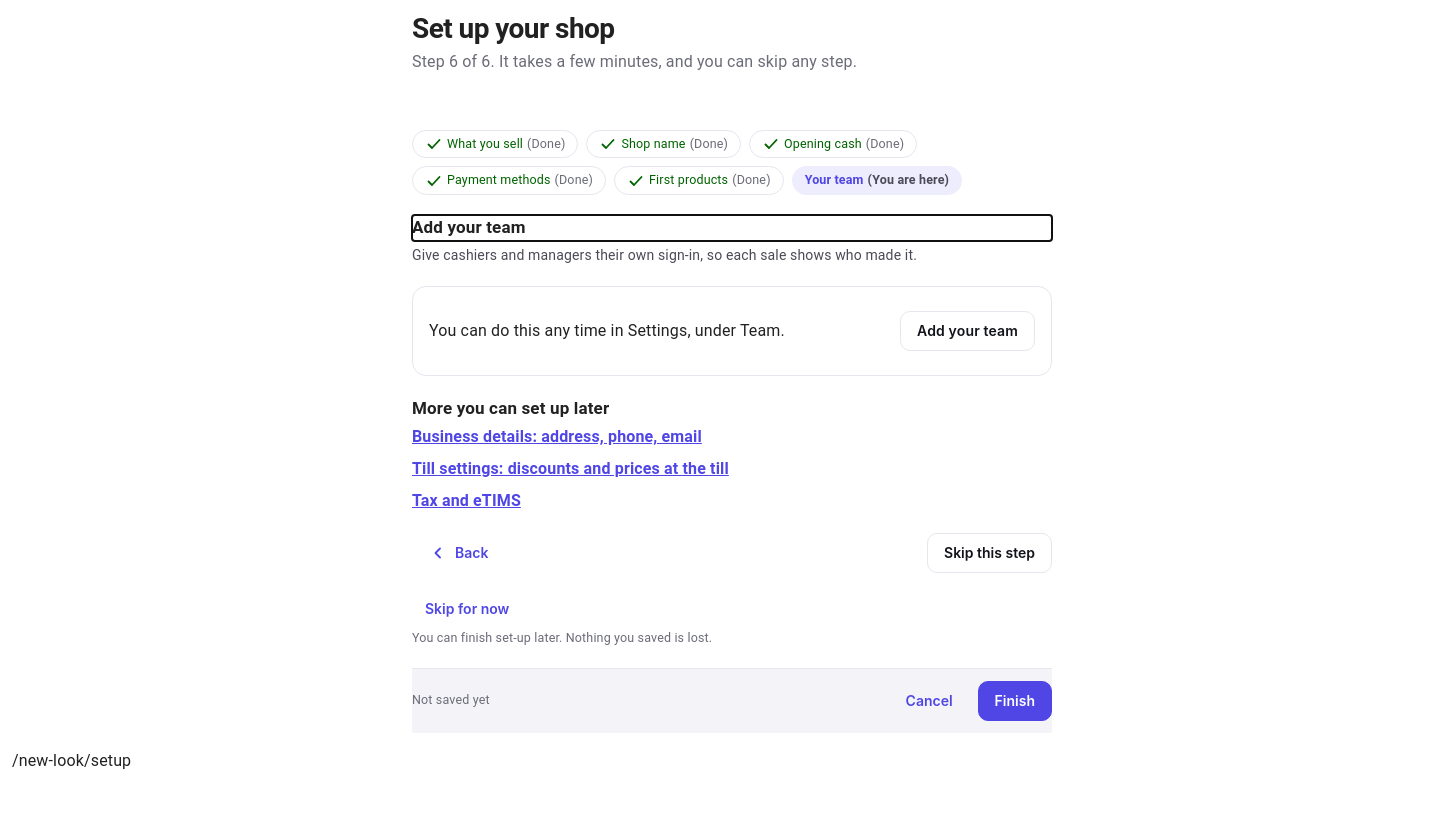
Test: step 6, your team, and finishing › Finish marks the step and the whole set-up done, and returns to Home
Click the button "Finish" at [1015, 701], box [978, 681, 1052, 721]
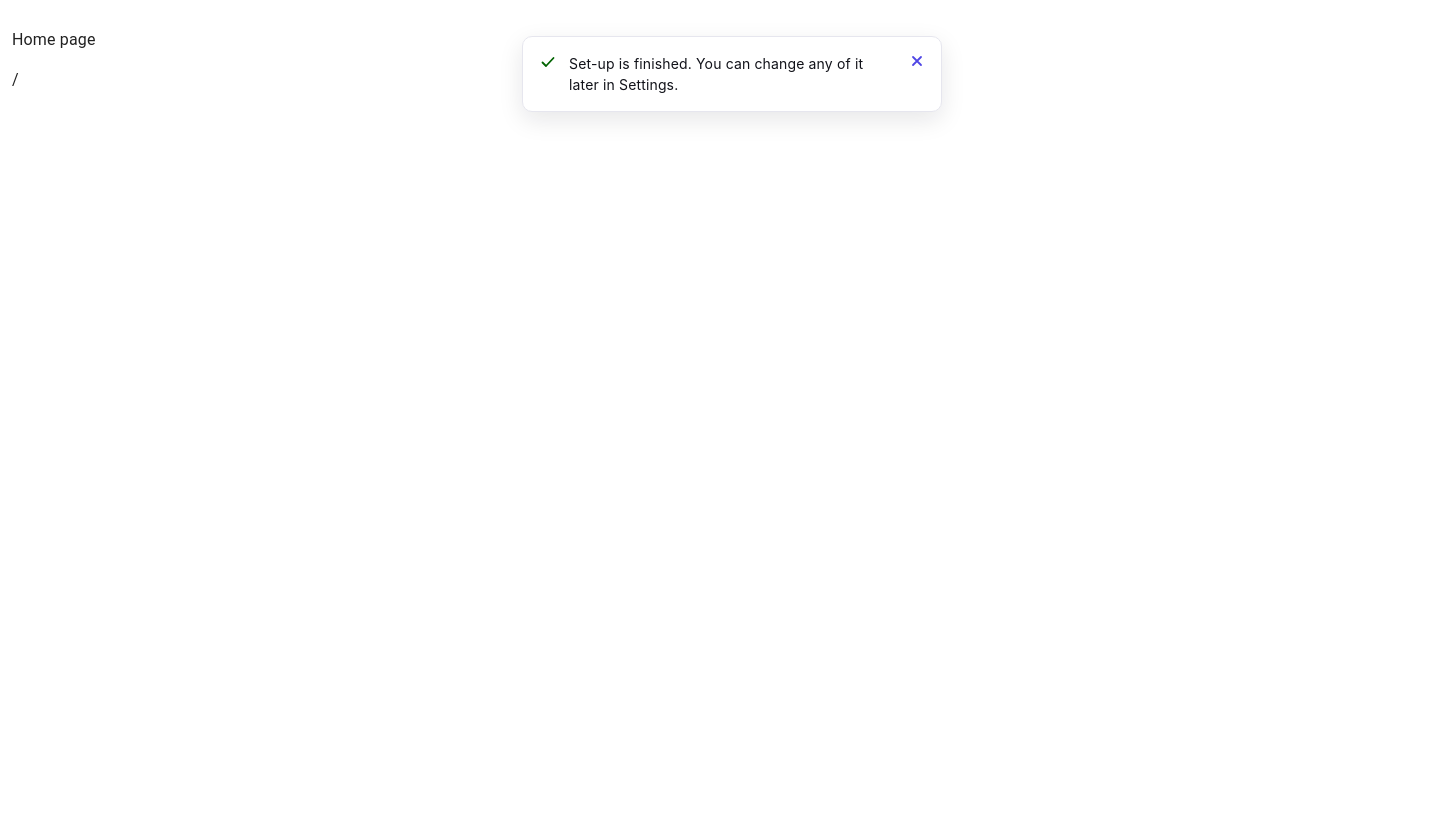
expect the text "Home page" is shown: met, box [12, 30, 96, 49]
